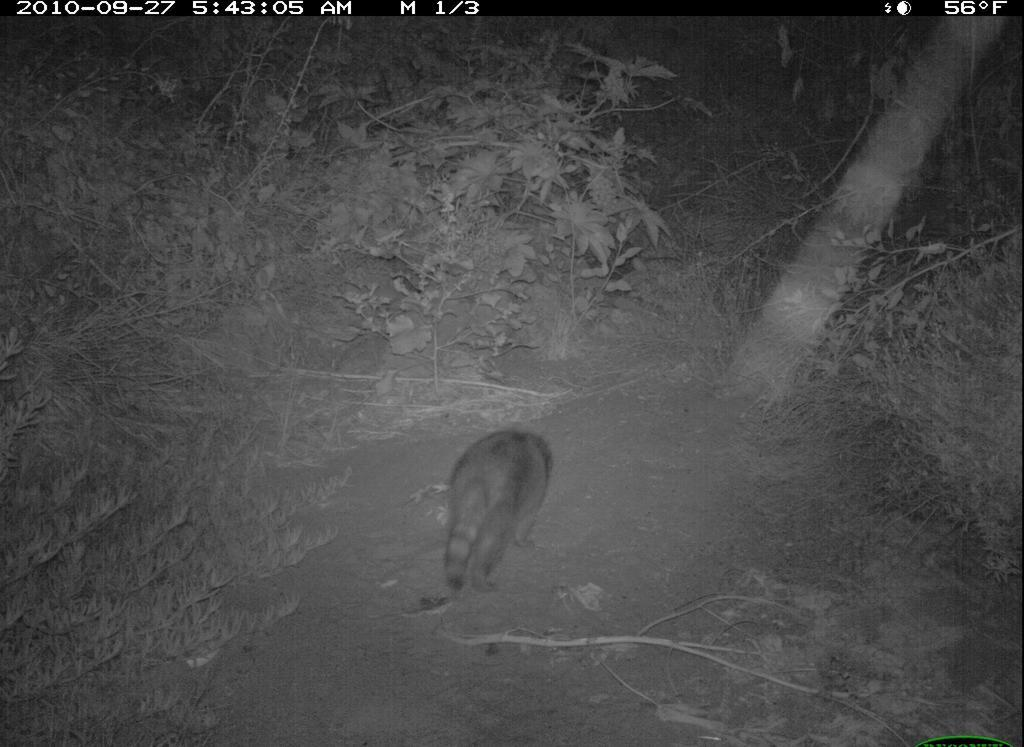raccoon: (433, 425, 570, 611)
